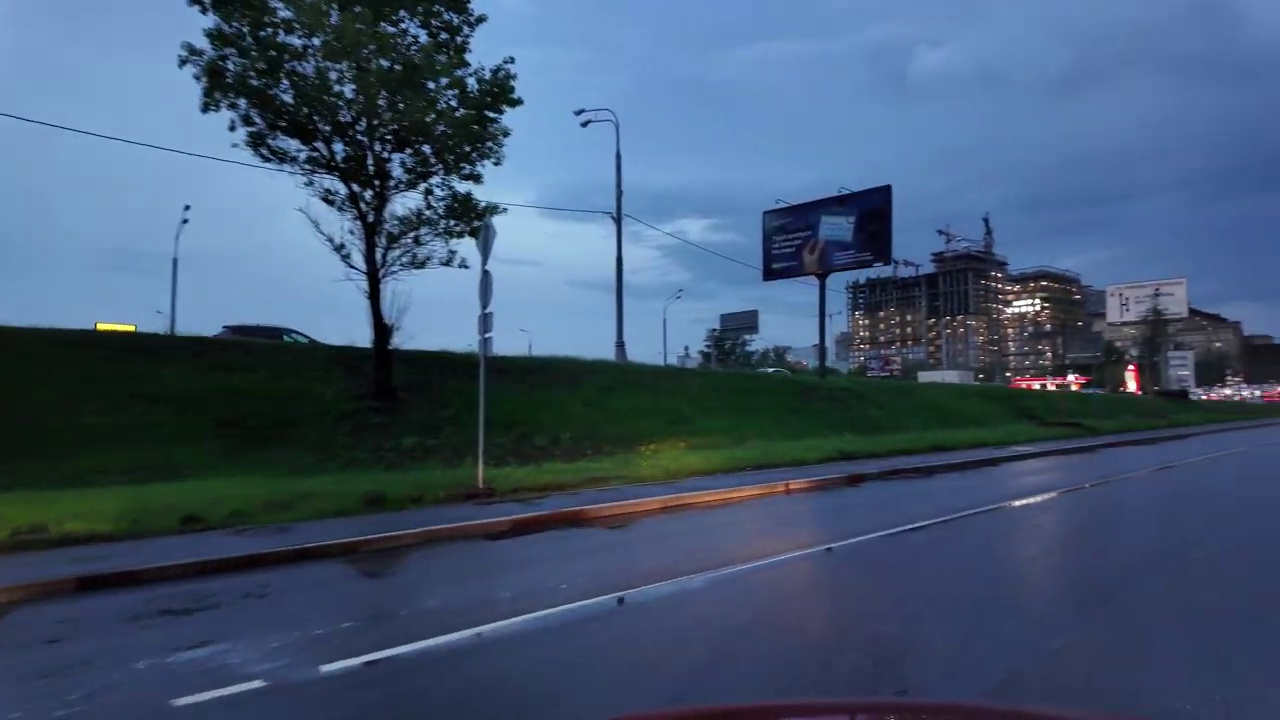apagada: (572, 105, 600, 135), (173, 204, 195, 235)
